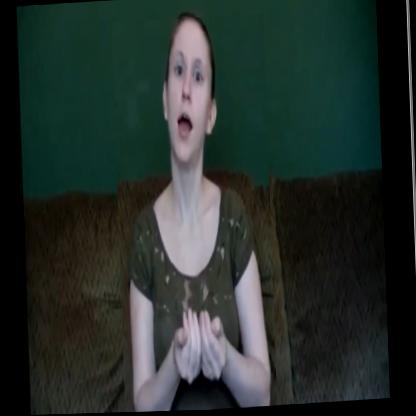HowAreYou: (112, 15, 277, 413)
